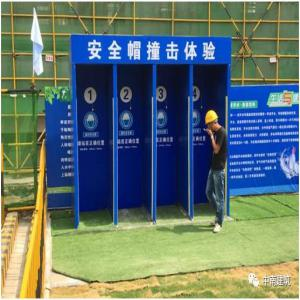yellow: (205, 109, 219, 133)
